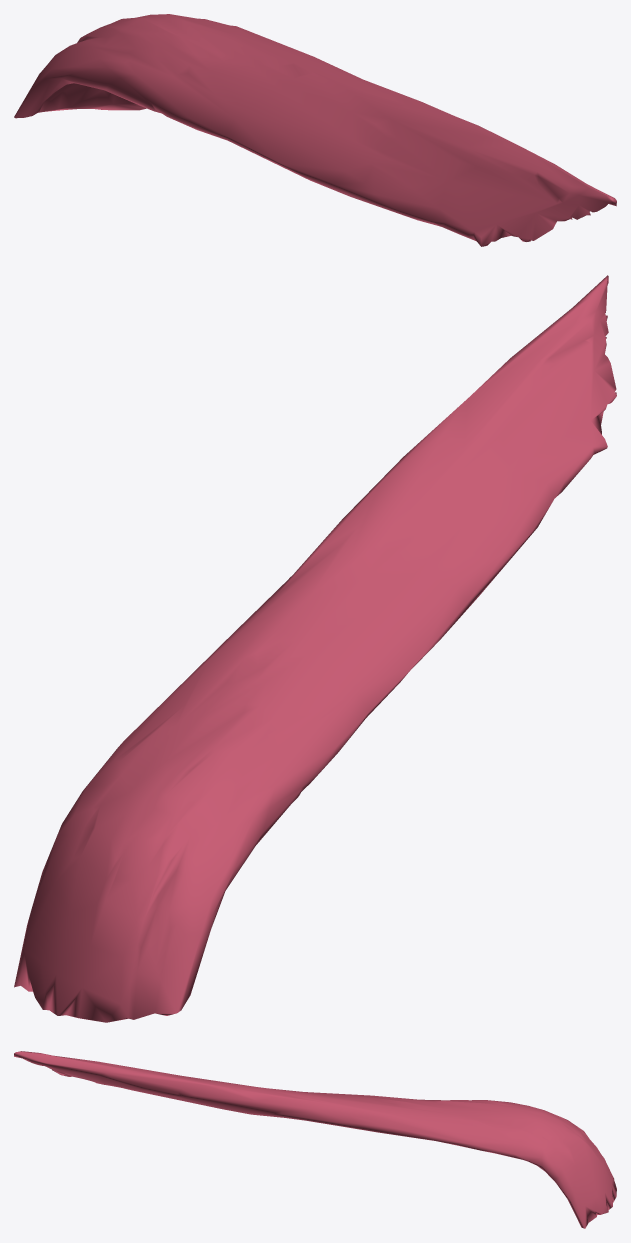
3 renders of one model, top to bottom at view 1: azimuth 30°, elevation 25°; view 2: azimuth 150°, elevation 25°; view 3: azimuth 270°, elevation 25°, orthographic. The views are drawn at different scales.
Parts seen in each view (by area): view 1: 左侧胸骨甲状肌; view 2: 左侧胸骨甲状肌; view 3: 左侧胸骨甲状肌.
Boxes of the visible parts, x1,y1,x2,y2 form: 左侧胸骨甲状肌: (14, 14, 616, 246); 左侧胸骨甲状肌: (14, 275, 616, 1022); 左侧胸骨甲状肌: (14, 1051, 616, 1228).
Bounding box in the file's own units: 0.0269 × 0.0441 × 0.1455.
